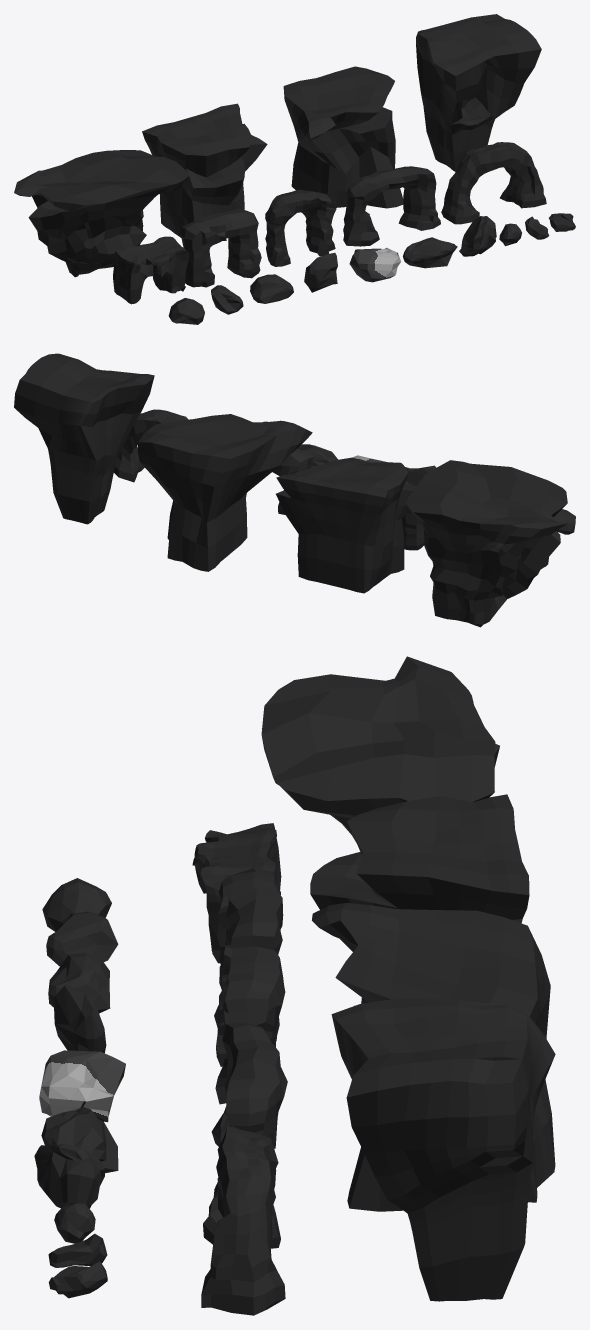
Rendered from rockscliffs.glb.
3 renders of one model, top to bottom at view 1: azimuth 30°, elevation 25°; view 2: azimuth 150°, elevation 25°; view 3: azimuth 270°, elevation 25°, orthographic. The views are drawn at different scales.
Parts seen in each view (by area): view 1: StoneCliff1_5, StoneCliff4_8, StoneCliff3_7, StoneCliff2_6, StoneArch5_4, StoneArch4_3, StoneArch2_1, StoneArch1_0, StoneArch3_2, Stone5_13, Stone6_14, Stone7_15 (+5 smaller); view 2: StoneCliff1_5, StoneCliff3_7, StoneCliff2_6, StoneCliff4_8, StoneArch5_4, StoneArch2_1, StoneArch4_3, Stone6_14, Stone1_9; view 3: StoneCliff4_8, StoneCliff1_5, StoneCliff3_7, StoneCliff2_6, StoneArch5_4, StoneArch4_3, StoneArch3_2, StoneArch1_0, StoneArch2_1, Stone5_13, Stone7_15, Stone6_14 (+7 smaller).
Part boxes in pixels (x1,y1,x2,y2): StoneCliff1_5: (14,150,189,277); StoneCliff4_8: (416,14,541,171); StoneCliff3_7: (283,66,403,208); StoneCliff2_6: (142,103,267,246); StoneArch5_4: (441,142,546,224); StoneArch4_3: (343,166,440,246); StoneArch2_1: (180,208,261,287); StoneArch1_0: (113,236,188,304); StoneArch3_2: (265,189,336,266); Stone5_13: (349,247,400,282); Stone6_14: (403,237,457,268); Stone7_15: (459,216,496,256); StoneCliff1_5: (406,460,567,627); StoneCliff3_7: (137,414,312,571); StoneCliff2_6: (276,457,415,593); StoneCliff4_8: (14,353,154,524); StoneArch5_4: (114,409,188,482); StoneArch2_1: (402,485,424,550); StoneArch4_3: (245,449,313,514); Stone6_14: (297,444,337,467); Stone1_9: (553,509,575,534); StoneCliff4_8: (331,998,555,1301); StoneCliff1_5: (261,656,499,842); StoneCliff3_7: (312,903,555,1211); StoneCliff2_6: (310,794,529,1003); StoneArch5_4: (201,1126,285,1315); StoneArch4_3: (211,1022,287,1196); StoneArch3_2: (215,945,285,1104); StoneArch1_0: (192,823,281,963); StoneArch2_1: (214,868,283,1041); Stone5_13: (39,1050,125,1122); Stone7_15: (34,1144,104,1208); Stone6_14: (41,1107,118,1173).
Size of the model in its own units: 246 by 66.36 by 107.
Materials: 19 (19 with a texture image).
